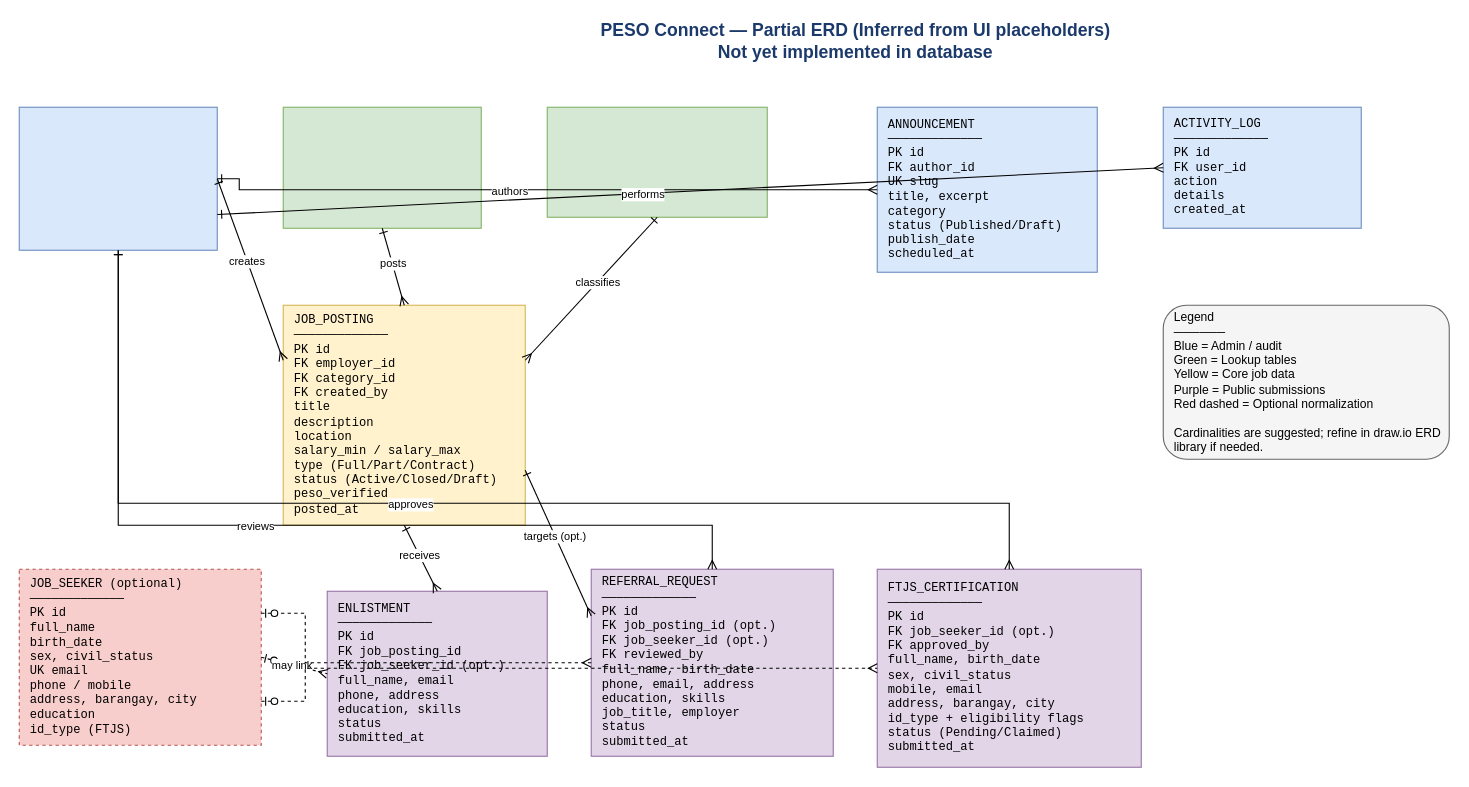
This 1469x787 diagram has some shape labels left out. The shapes that lost their labels are listed below. From the top down, each one's centre as x and y in pixels, then its label:
(x=117, y=178): ADMIN_USER ───────────── PK id name UK email password role (inferred) created_at
(x=381, y=167): EMPLOYER ───────────── PK id name abbr peso_verified
(x=656, y=161): JOB_CATEGORY ───────────── PK id name (IT & Tech, Healthcare…)
